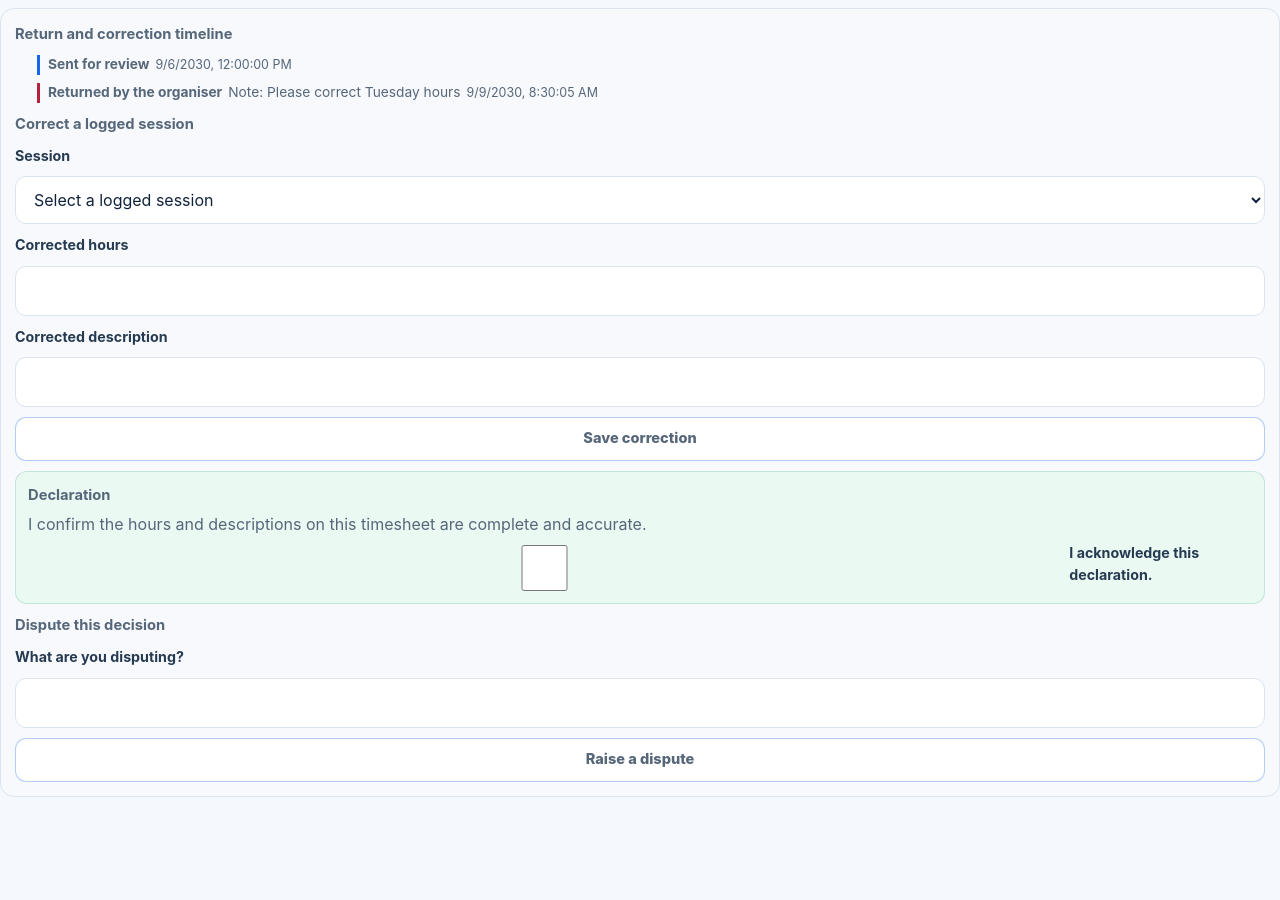
Test: TimesheetCorrectionPanel › refuses hours that no single session could hold
This screenshot has width=1280, height=900.
Step 1. Select "2030-09-03: 2.5h - Tuesday lab" in the dropdown labelled "Session" → {"x": 640, "y": 200}, box 15,176 -> 1265,224
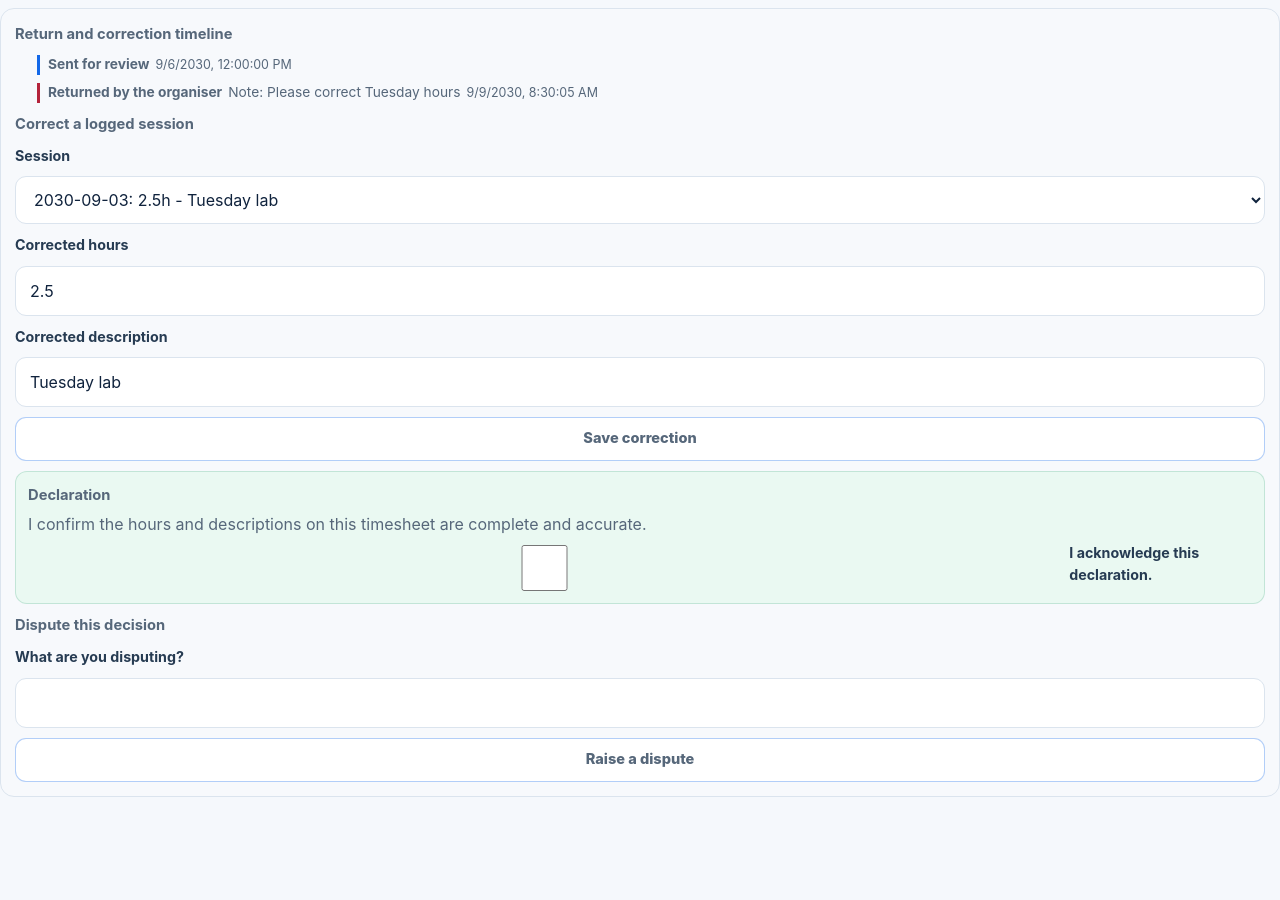
Step 2. Replace the text in the number field labelled "Corrected hours" with "30" → {"x": 640, "y": 291}, box 15,266 -> 1265,316
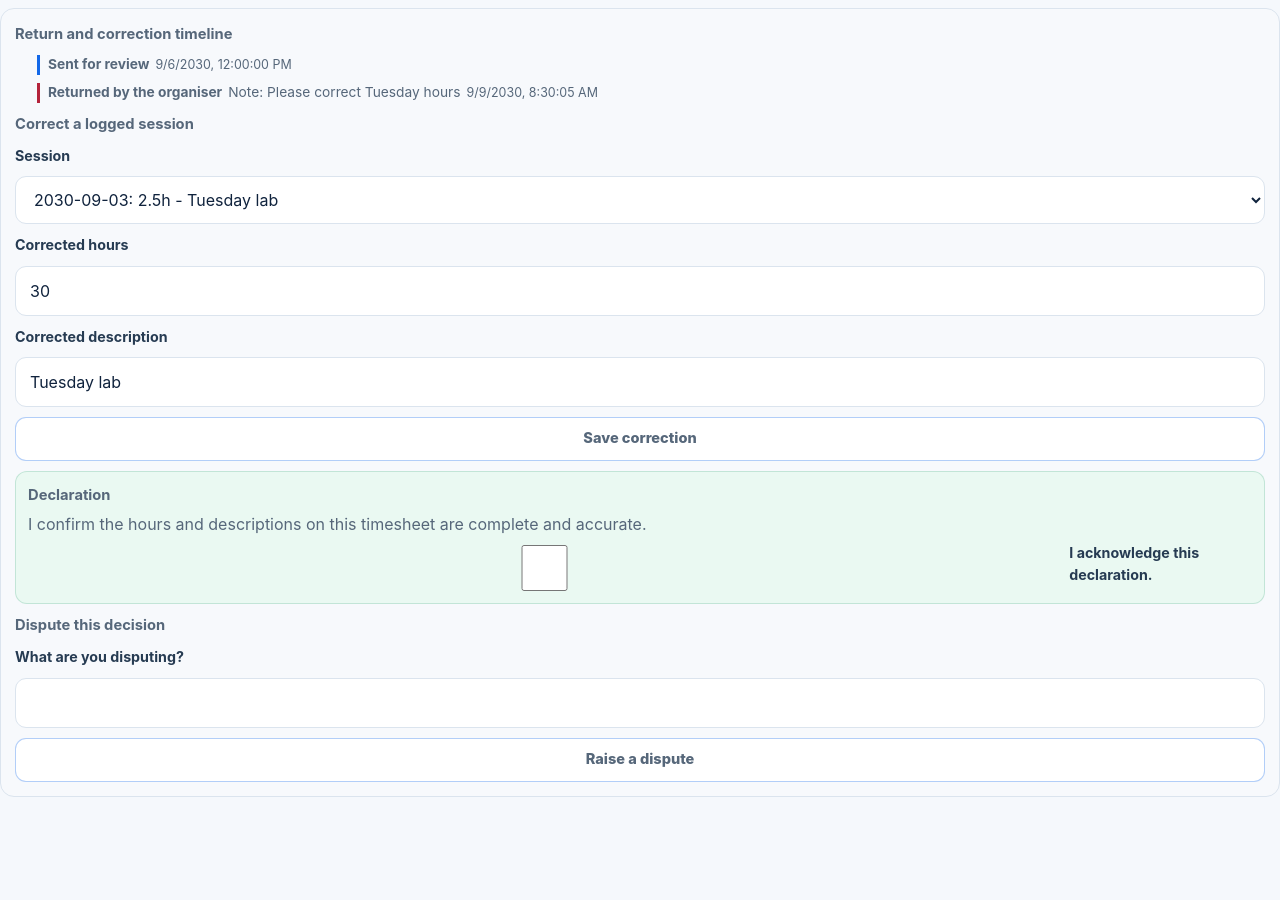
Step 3. Click the button "Save correction" → {"x": 640, "y": 439}, box 15,417 -> 1265,461
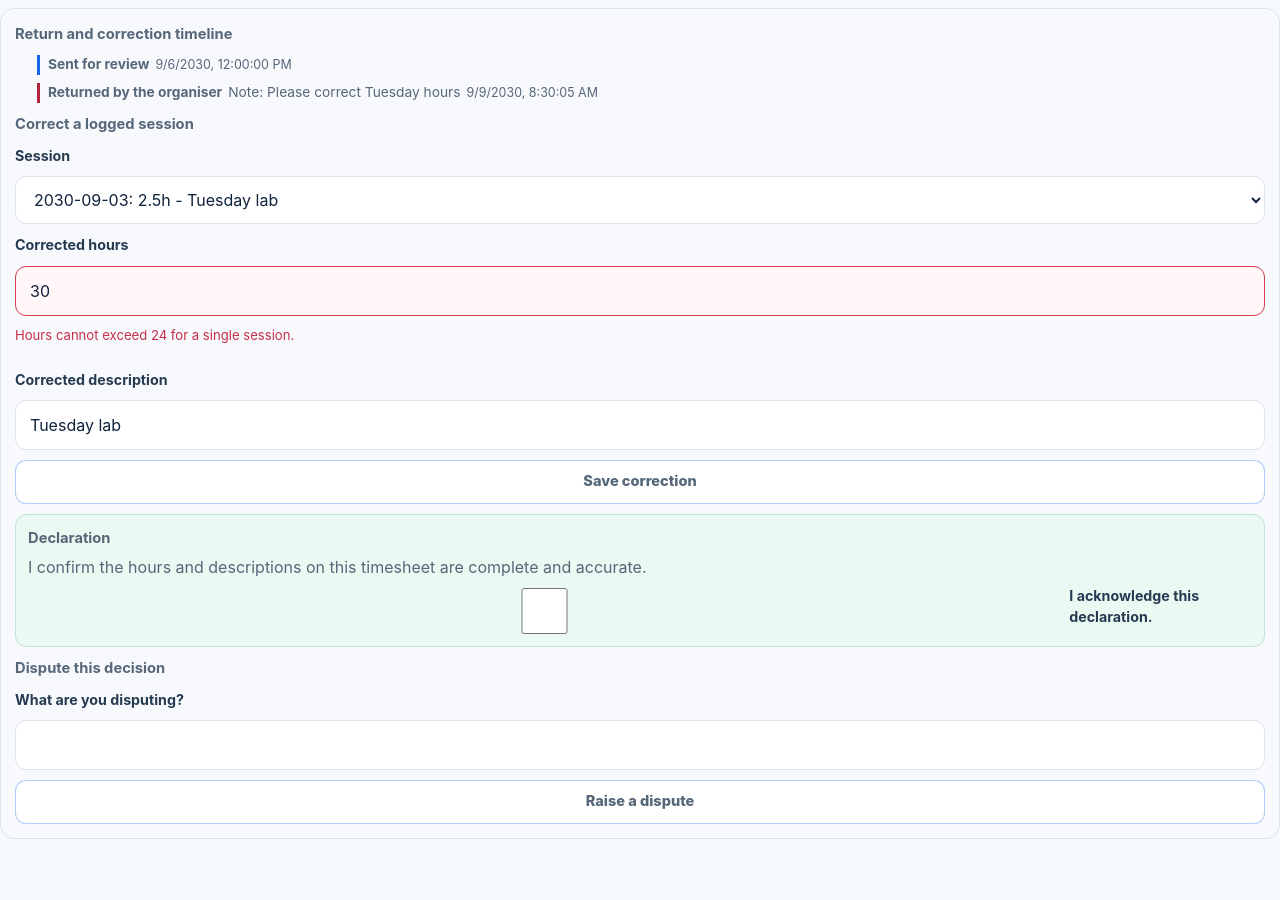
Expected: the text "Hours cannot exceed 24 for a single session." is shown, 15,327 -> 294,343
